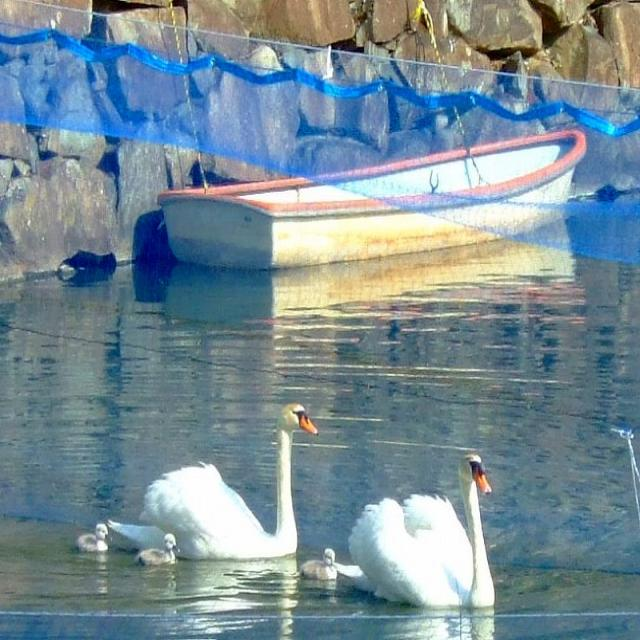bird: (123, 397, 325, 565), (339, 451, 501, 616), (138, 531, 182, 568), (67, 520, 110, 556), (297, 548, 335, 582)
